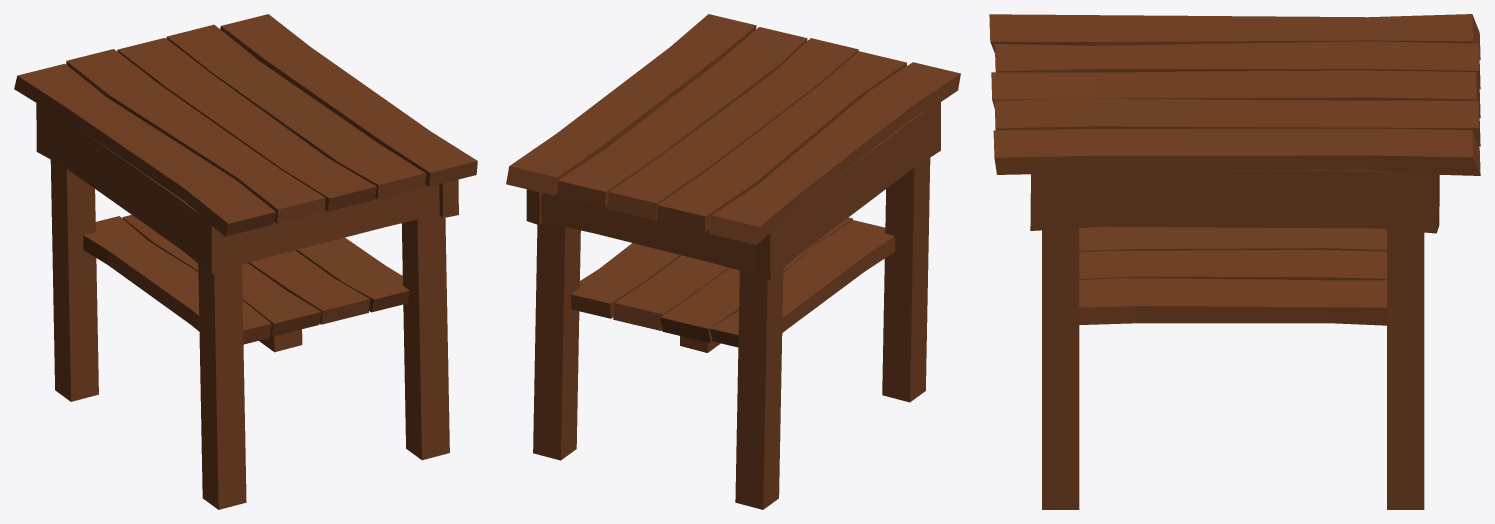
Rendered from Table2.fbx.
3 views of the same model, side by side, from view 1: azimuth 30°, elevation 25°; view 2: azimuth 150°, elevation 25°; view 3: azimuth 270°, elevation 25° (orthographic). The views are drawn at different scales.
Visible parts, largest first — view 1: Bench; view 2: Bench; view 3: Bench.
Part boxes in pixels (x1,y1,x2,y2): Bench: (14, 14, 477, 509); Bench: (506, 14, 960, 509); Bench: (989, 14, 1480, 509).
Bounding box in the file's own units: 109 × 124 × 154.
